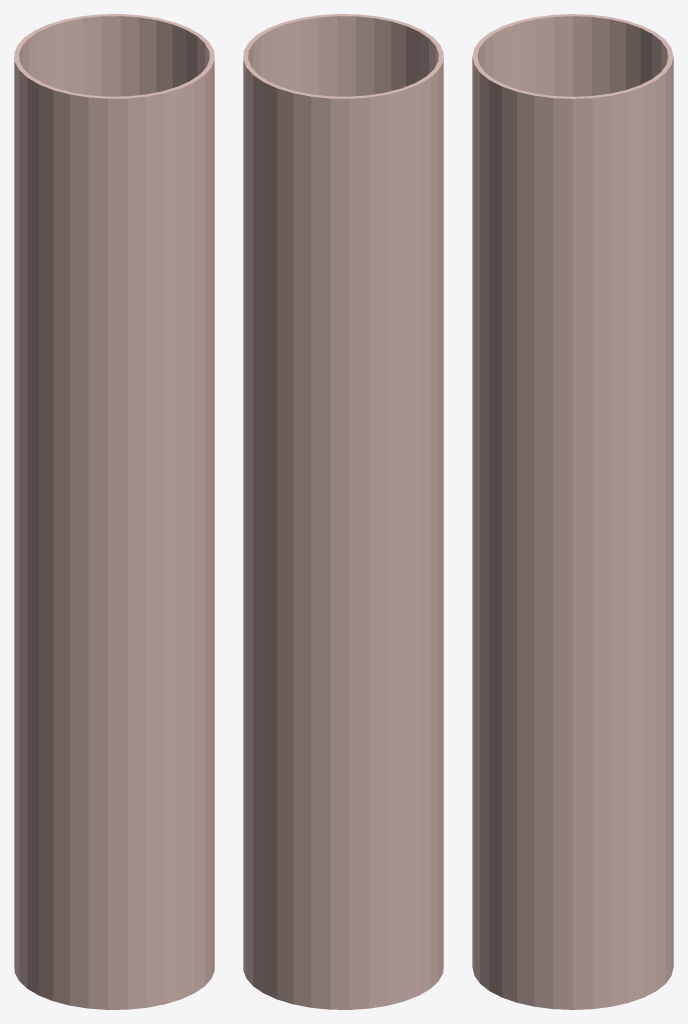
The picture shows the model from 3 angles, left to right: view 1: azimuth 30°, elevation 25°; view 2: azimuth 150°, elevation 25°; view 3: azimuth 270°, elevation 25°; orthographic projection.
Parts seen in each view (by area): view 1: Cylinder.001; view 2: Cylinder.001; view 3: Cylinder.001.
Boxes of the visible parts, <box> form: Cylinder.001: <box>14,14,214,1009</box>; Cylinder.001: <box>243,14,443,1009</box>; Cylinder.001: <box>472,14,673,1009</box>.
Bounding box in the file's own units: 200 × 1000 × 200.
